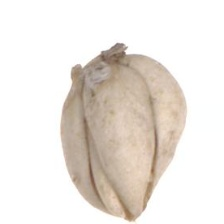L1: (68, 45, 121, 96), (93, 190, 155, 222)
L2: (59, 44, 187, 221)
